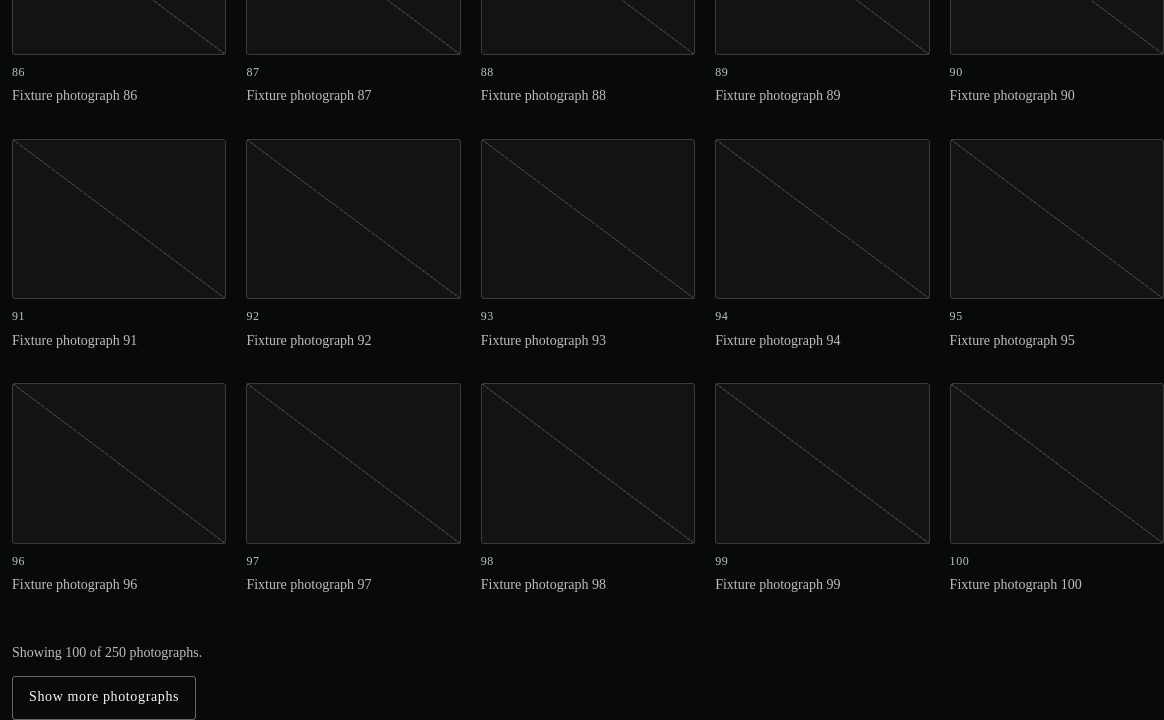
Scenario: SeriesSequence › follows only the preview's own mirror inside #16's preview, never the public endpoint
This screenshot has width=1164, height=720.
(page scrolled)
Click the button "Show more photographs": (104, 698) [12, 676, 196, 719]
(page scrolled)
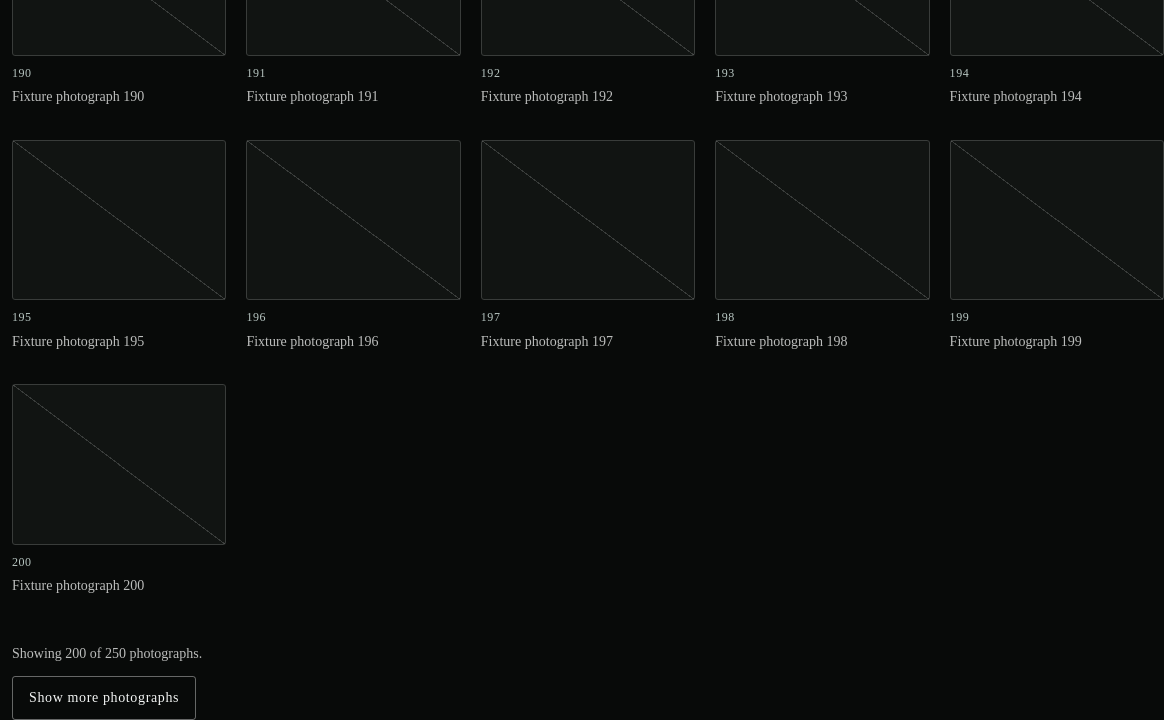
# The second mirror page names the public endpoint next: refused, so nothing leaves the preview.
Click the button "Show more photographs": (104, 698) [12, 676, 196, 719]
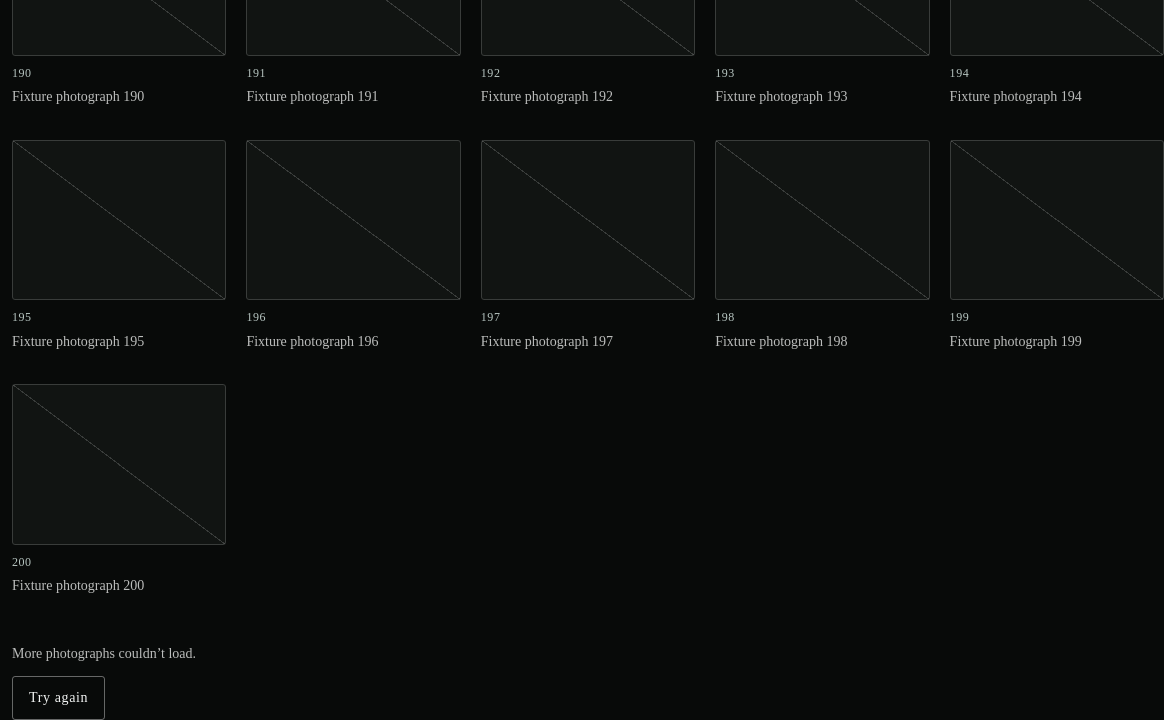
Expected: the message reads "More photographs couldn’t load.", [12, 646, 196, 661]
